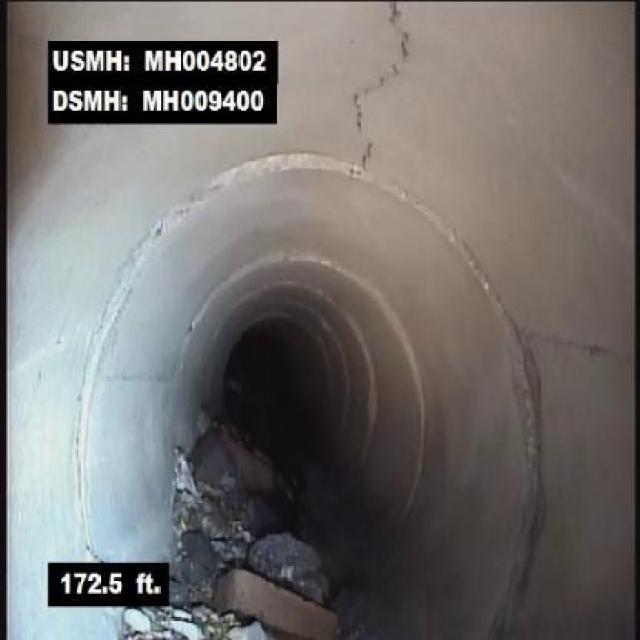Crack: (348, 3, 415, 172), (511, 322, 637, 368)
Obstacle: (168, 434, 346, 638)
